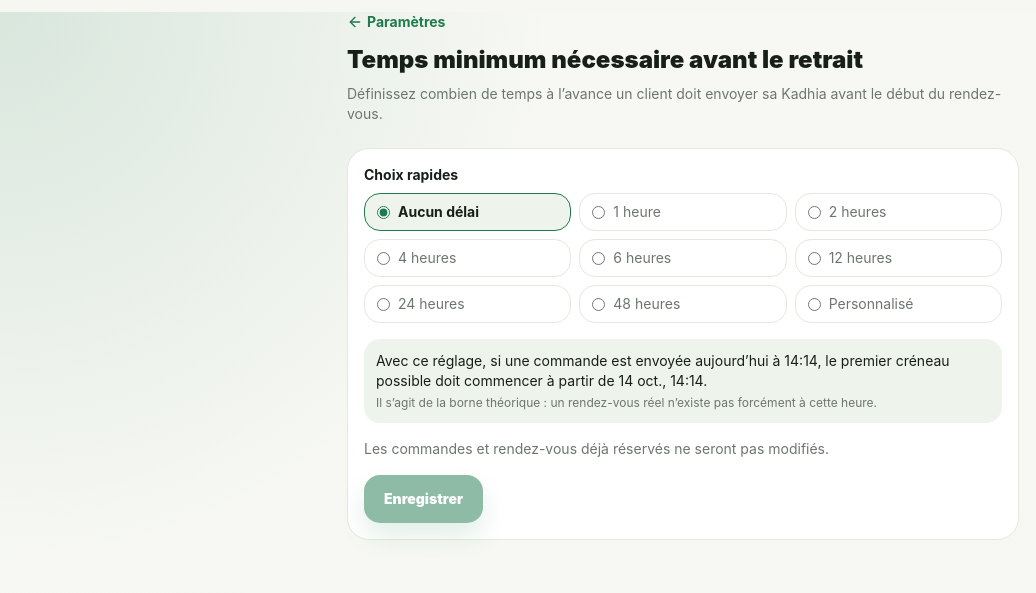
Scenario: MerchantOrderingPolicyPage (ORDER-LEAD-003) › prevents double submit while a save is in flight
Check: the button "Enregistrer" is shown, box [364,475,483,523]
Click the radio button labelled "2 heures" at (814, 212), box [808,206,821,218]
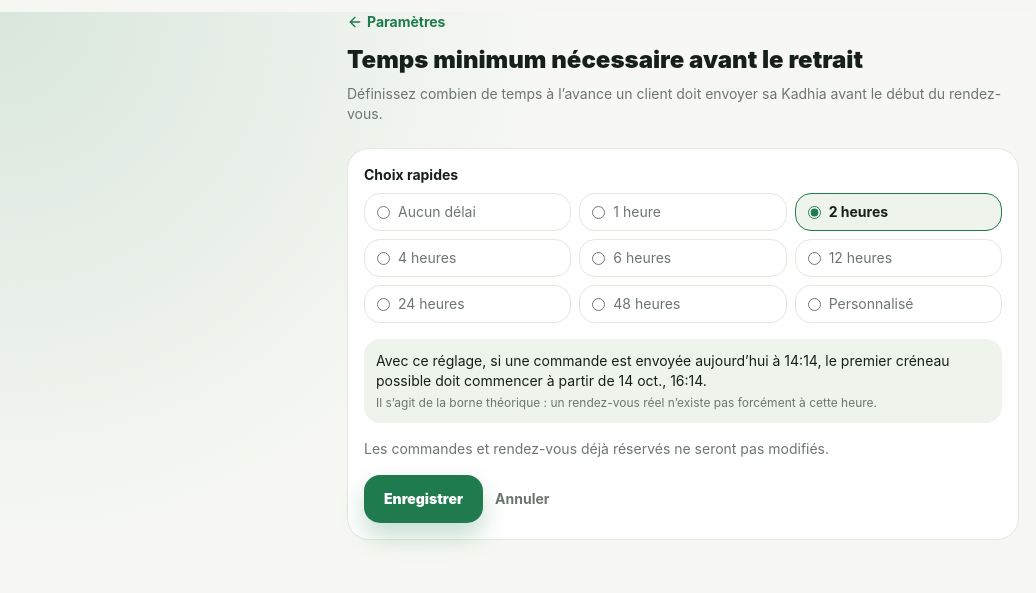
Click the button "Enregistrer" at (424, 499), box [364,475,483,523]
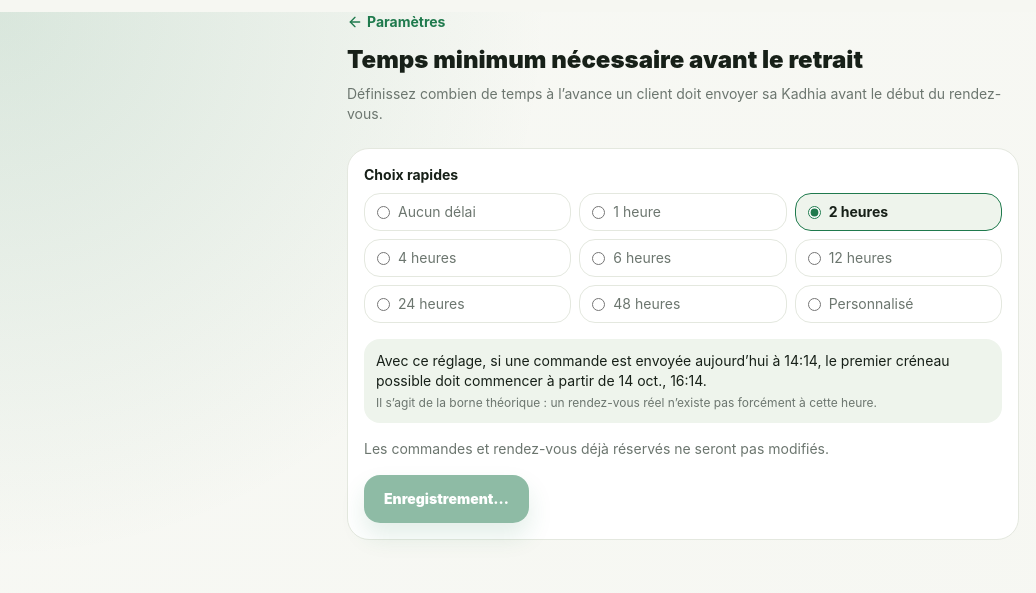
Check: the button "Enregistrement…" is disabled
Click the button "Enregistrement…" at (446, 499), box [364,475,529,523]
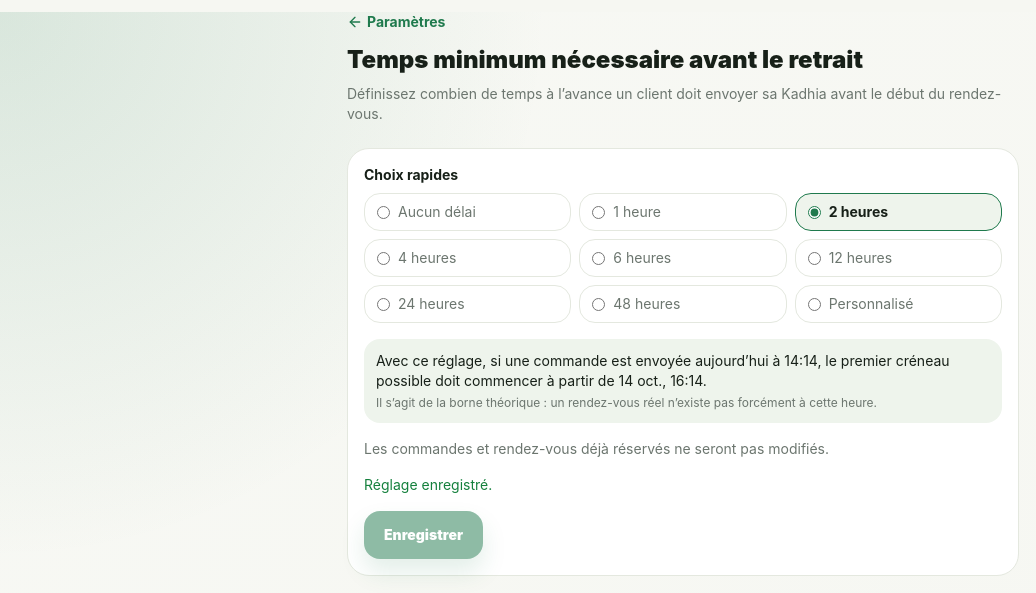
Check: the text "Réglage enregistré." is shown, box [364,476,492,493]
